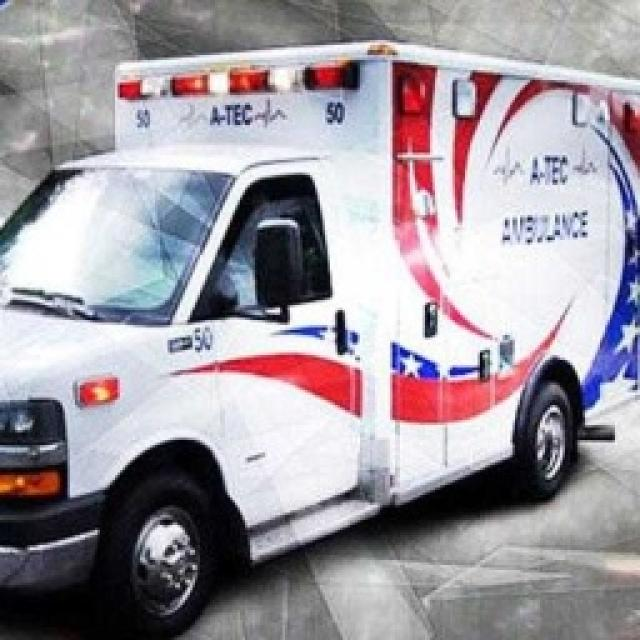emergency-vehicle: (0, 40, 639, 617)
